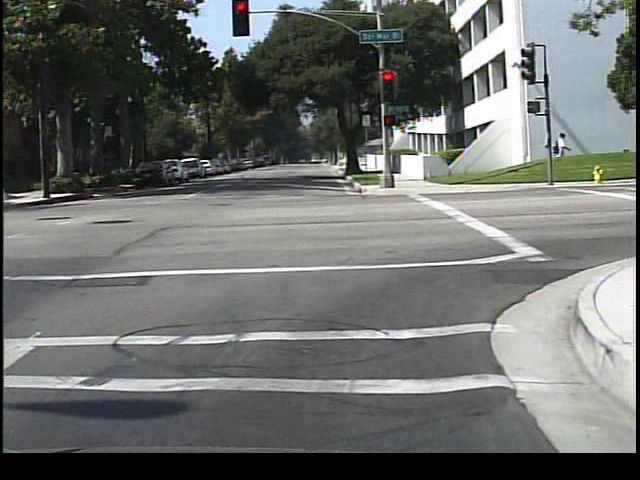person: (546, 126, 570, 176)
